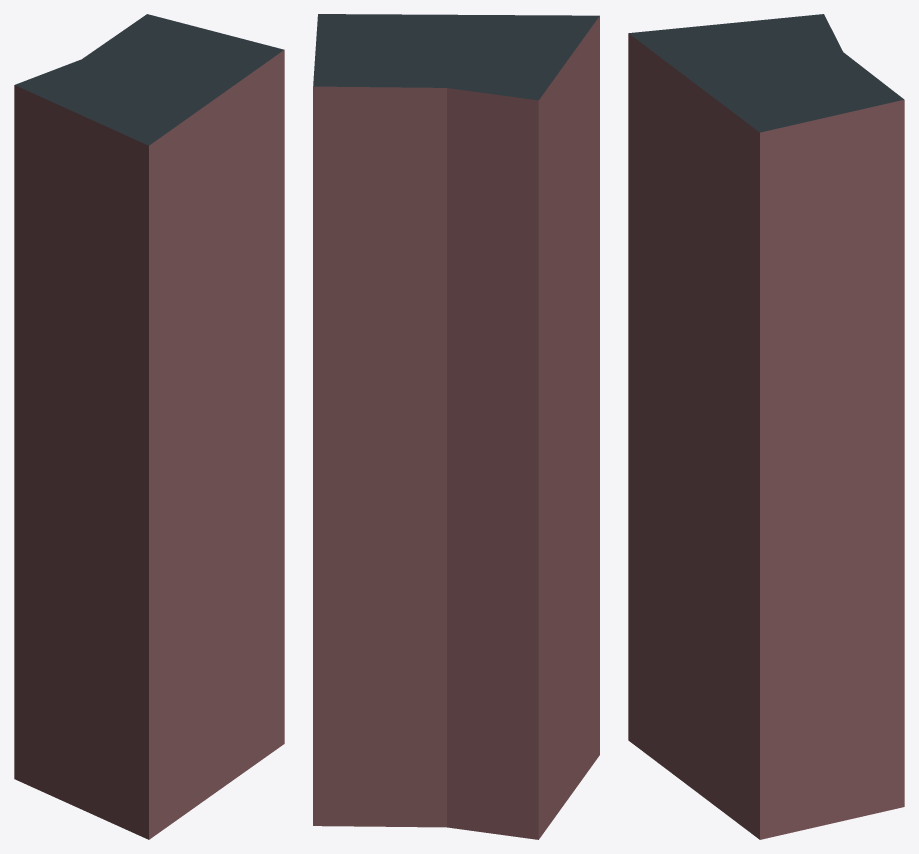
File: nyc-1015274-0.glb
The picture shows the model from 3 angles, left to right: view 1: azimuth 30°, elevation 25°; view 2: azimuth 150°, elevation 25°; view 3: azimuth 270°, elevation 25°; orthographic projection. The views are drawn at different scales.
Visible parts, largest first — view 1: nyc-1015274-0; view 2: nyc-1015274-0; view 3: nyc-1015274-0.
Boxes of the visible parts, bbox=[...] form: nyc-1015274-0: bbox=[14, 14, 284, 839]; nyc-1015274-0: bbox=[313, 14, 599, 839]; nyc-1015274-0: bbox=[628, 14, 904, 839].
Bounding box in the file's own units: 44.97 × 125 × 44.23.
